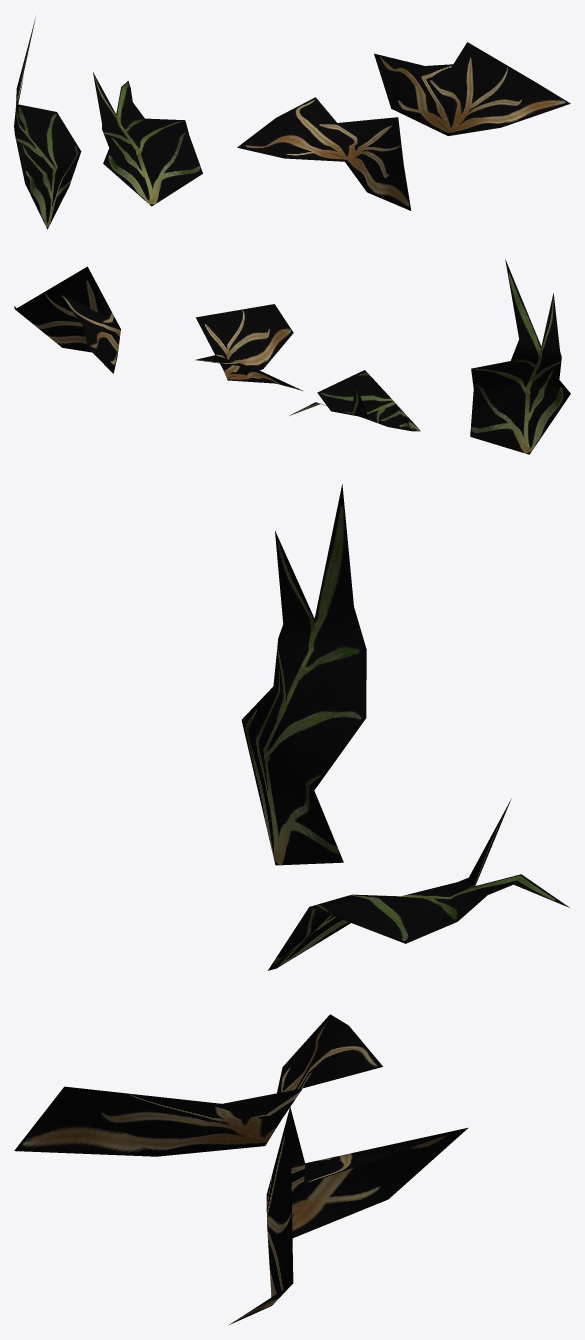
Rendered from grass_fine.glb.
The picture shows the model from 3 angles, top to bottom: view 1: azimuth 30°, elevation 25°; view 2: azimuth 150°, elevation 25°; view 3: azimuth 270°, elevation 25°; orthographic projection. The views are drawn at different scales.
Visible parts, largest first — view 1: grass_bermuda_01_dead_b, grass_bermuda_01_dead_a, grass_bermuda_01_flattened_a, grass_bermuda_01_medium_a; view 2: grass_bermuda_01_medium_a, grass_bermuda_01_dead_b, grass_bermuda_01_dead_a, grass_bermuda_01_flattened_a; view 3: grass_bermuda_01_medium_a, grass_bermuda_01_dead_a, grass_bermuda_01_dead_b, grass_bermuda_01_flattened_a.
Part boxes in pixels (x1=…): grass_bermuda_01_dead_b: x1=374, y1=42, x2=570, y2=135; grass_bermuda_01_dead_a: x1=237, y1=97, x2=411, y2=210; grass_bermuda_01_flattened_a: x1=93, y1=72, x2=202, y2=206; grass_bermuda_01_medium_a: x1=14, y1=18, x2=81, y2=229; grass_bermuda_01_medium_a: x1=470, y1=259, x2=570, y2=454; grass_bermuda_01_dead_b: x1=14, y1=266, x2=120, y2=373; grass_bermuda_01_dead_a: x1=195, y1=304, x2=302, y2=390; grass_bermuda_01_flattened_a: x1=289, y1=370, x2=420, y2=431; grass_bermuda_01_medium_a: x1=241, y1=484, x2=366, y2=865; grass_bermuda_01_dead_a: x1=14, y1=1014, x2=382, y2=1156; grass_bermuda_01_dead_b: x1=228, y1=1107, x2=468, y2=1325; grass_bermuda_01_flattened_a: x1=268, y1=799, x2=569, y2=970.
Size of the model in its own units: 0.2757 by 0.1028 by 0.1271.
1 material, 1 textured.
